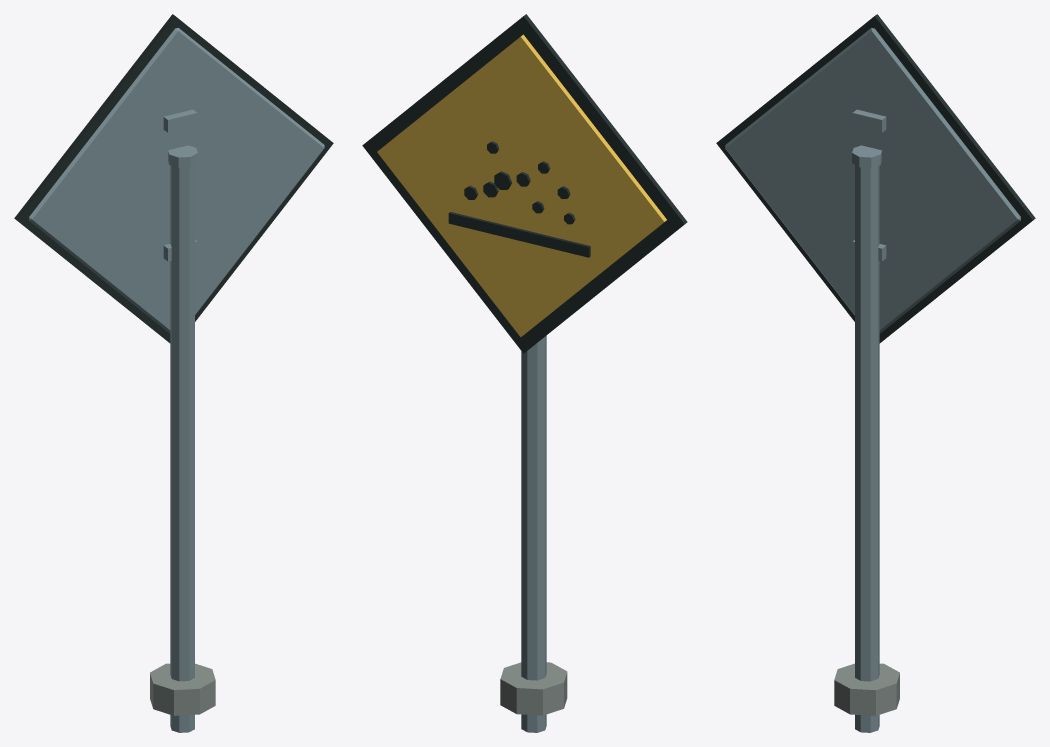
Rendered from sm_env_sign_gravel.glb.
3 views of the same model, side by side, from view 1: azimuth 30°, elevation 25°; view 2: azimuth 150°, elevation 25°; view 3: azimuth 330°, elevation 25° (orthographic).
Visible parts, largest first — view 1: SignBack, SignPost, SignBorder, PostBase, SignBracket.001, PostCap; view 2: SignPanel, SignBorder, SignPost, PostBase, Road; view 3: SignBack, SignPost, SignBorder, PostBase, SignBracket.001, PostCap.
Part boxes in pixels (x1,y1,x2,y2): SignBack: (29, 28, 324, 333); SignPost: (170, 165, 194, 732); SignBorder: (14, 14, 333, 343); PostBase: (150, 663, 215, 715); SignBracket.001: (163, 109, 197, 132); PostCap: (168, 145, 197, 167); SignPanel: (377, 34, 666, 337); SignBorder: (362, 14, 687, 353); SignPost: (521, 335, 546, 732); PostBase: (500, 662, 567, 715); Road: (448, 212, 590, 257); SignBack: (725, 28, 1020, 333); SignPost: (855, 165, 879, 732); SignBorder: (716, 14, 1035, 343); PostBase: (834, 663, 899, 715); SignBracket.001: (852, 109, 886, 132); PostCap: (852, 145, 881, 167).
Size of the model in its own units: 1.29 by 2.74 by 0.24.
